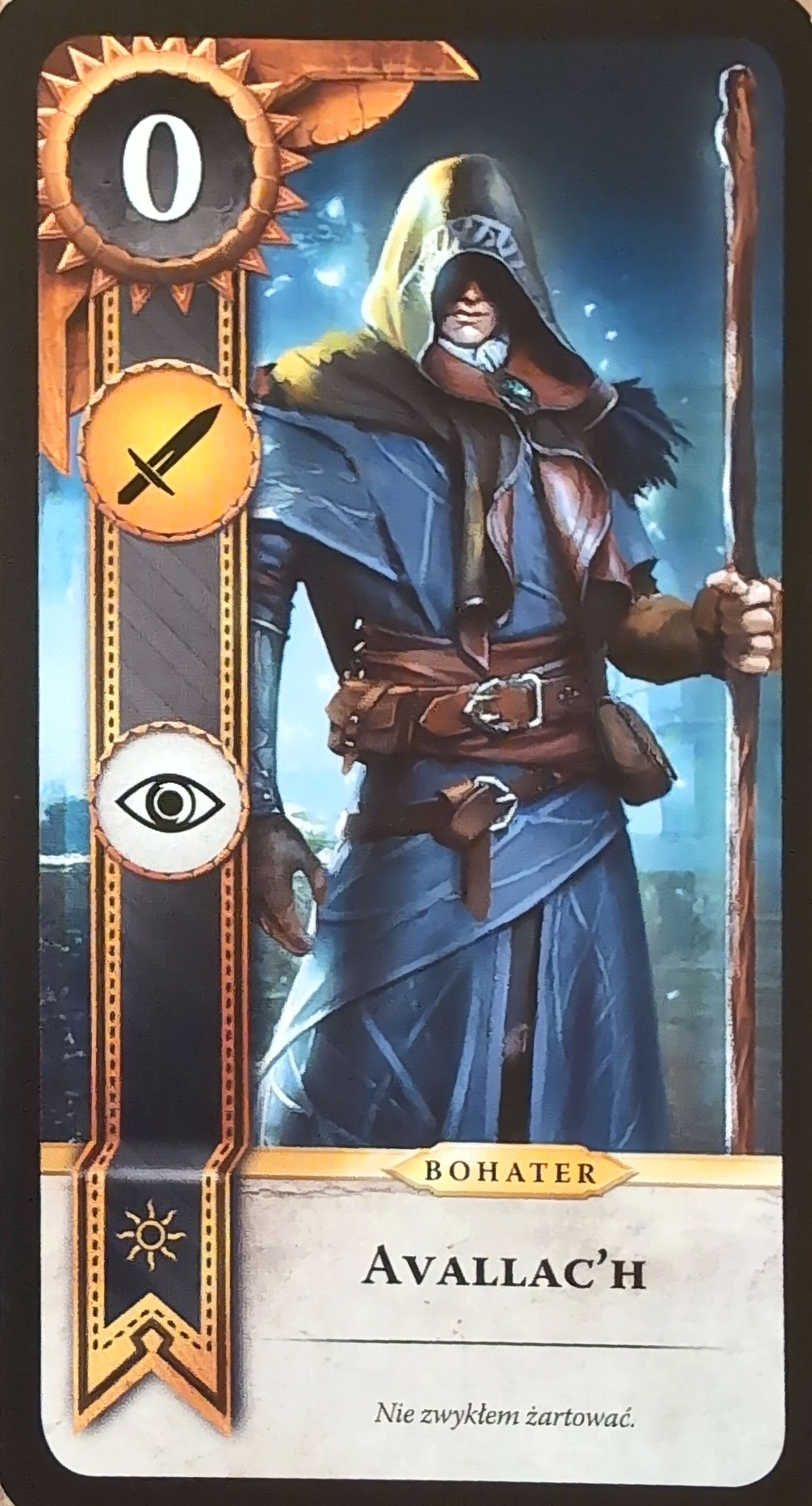0: (24, 31, 310, 316)
bohater: (384, 1140, 641, 1202)
miecz: (76, 357, 266, 546)
szpiegostwo: (91, 722, 250, 880)
